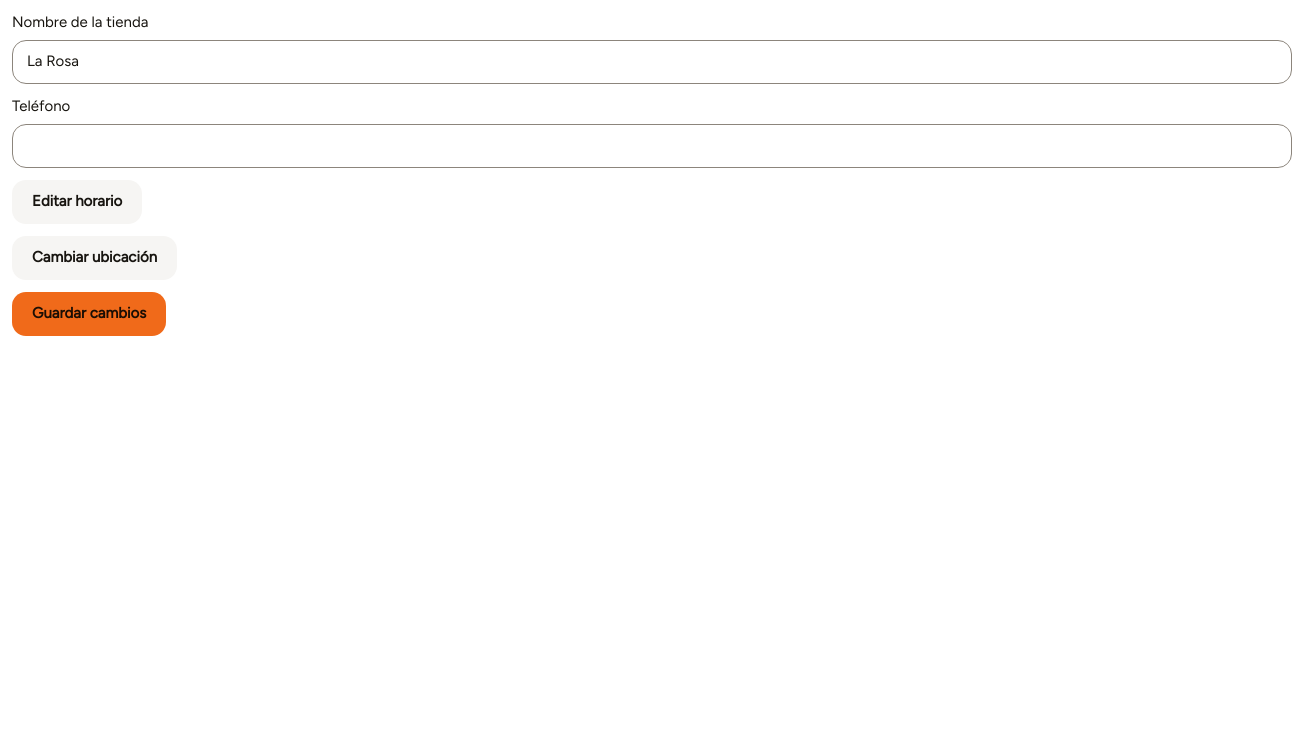
Test: editor de horario › cada día cerrado dice «Cerrado» y al abrirlo muestra sus dos horas con nombre claro
What coordinates should you click on to do the following:
click the button "Editar horario"
I would click on:
 (77, 202)
Its box is [12,180,142,224].
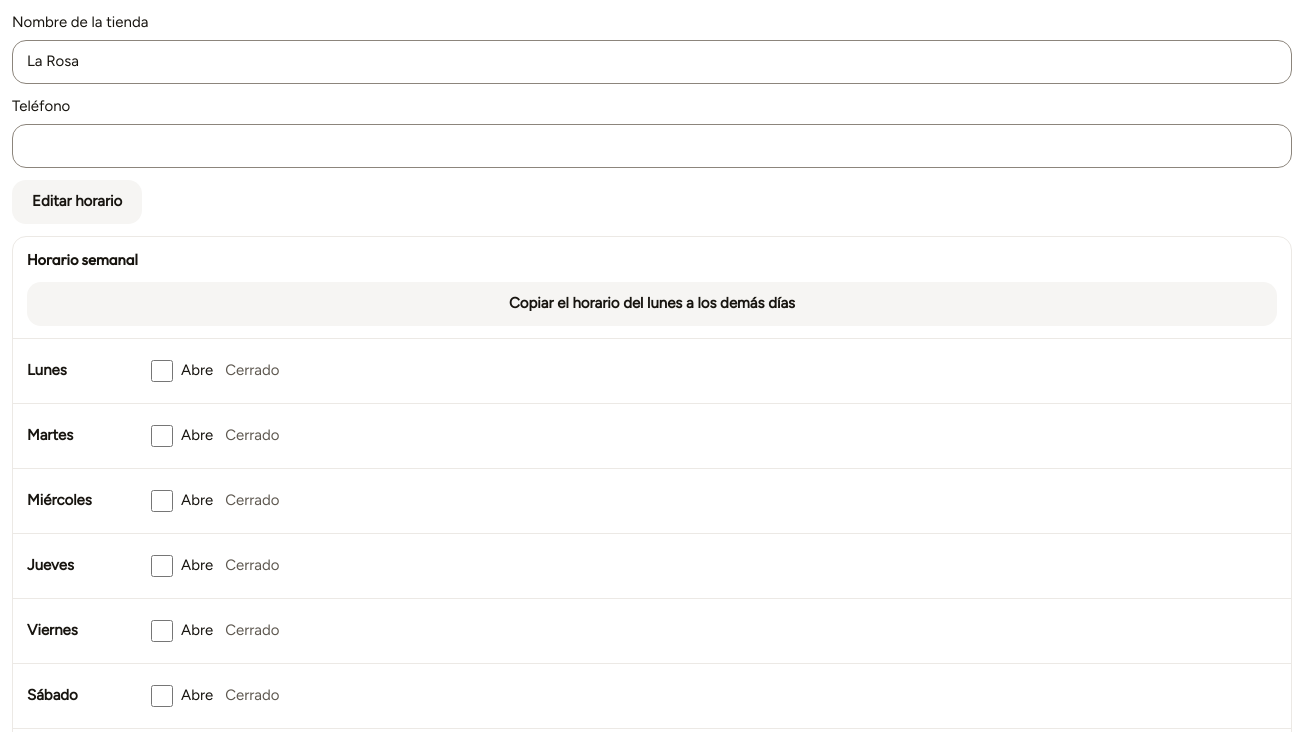
Now the 1st text "Cerrado" is shown, box [225,361,280,379]
What coordinates should you click on to do the following:
click the checkbox named "Abre el lunes"
I would click on:
 (162, 371)
Its box is [151,360,173,382].
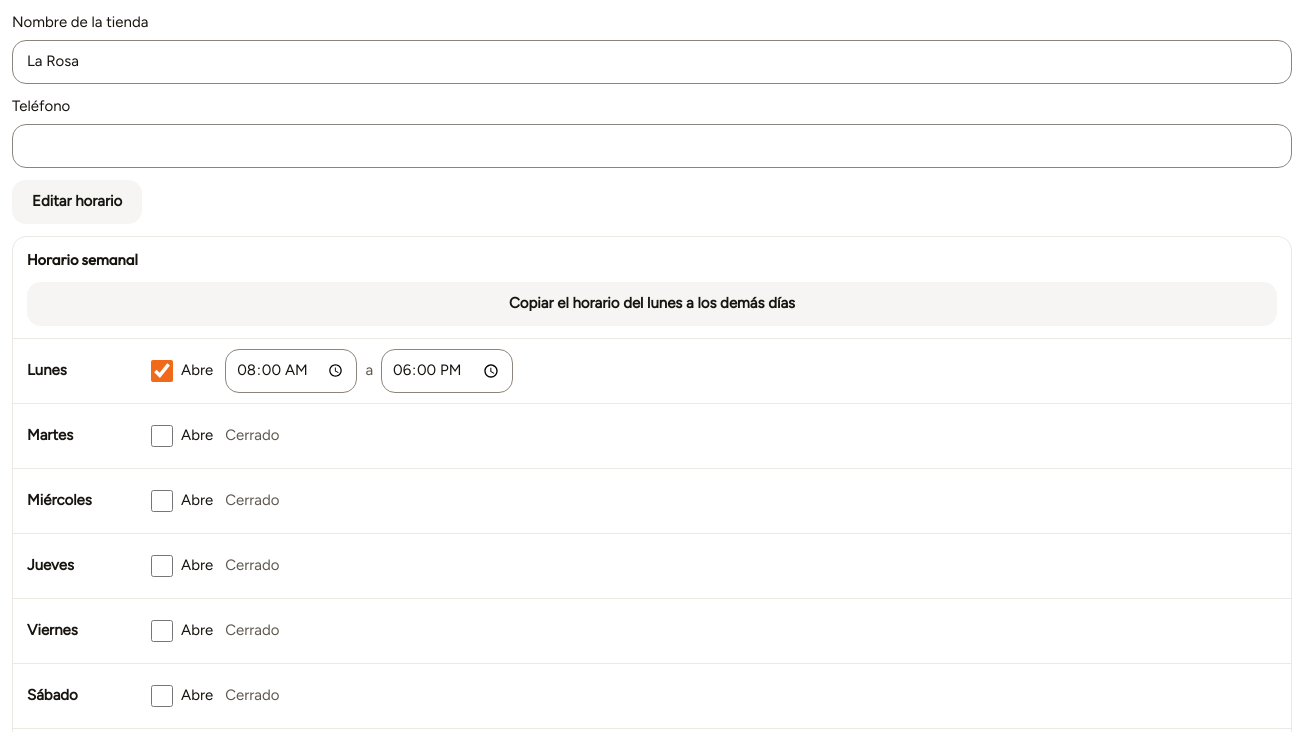
Now the time field named "Apertura del lunes" holds "08:00", box [225,349,357,393]
Now the time field named "Cierre del lunes" holds "18:00", box [381,349,513,393]
